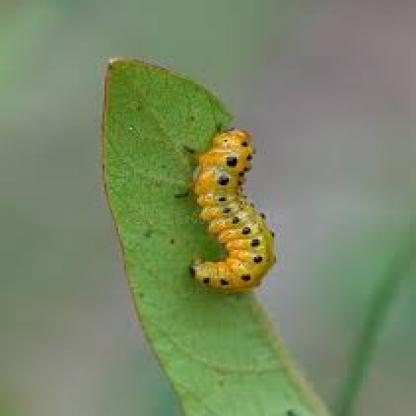sawfly: (173, 116, 288, 303)
